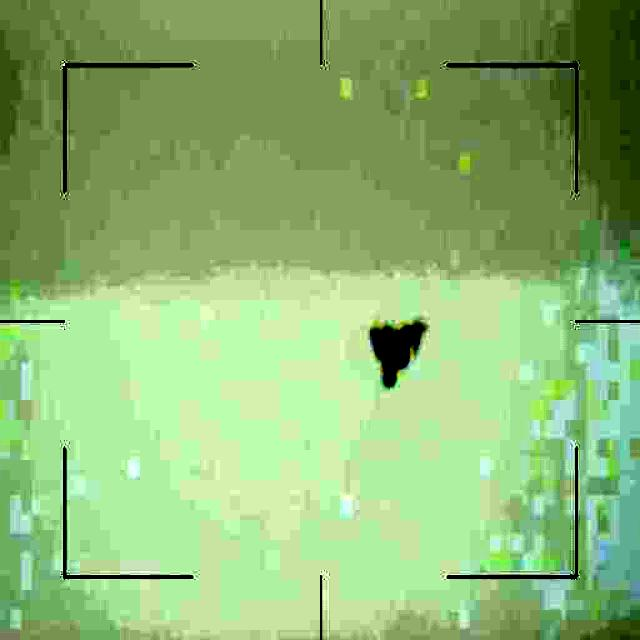bird: (366, 320, 425, 385)
